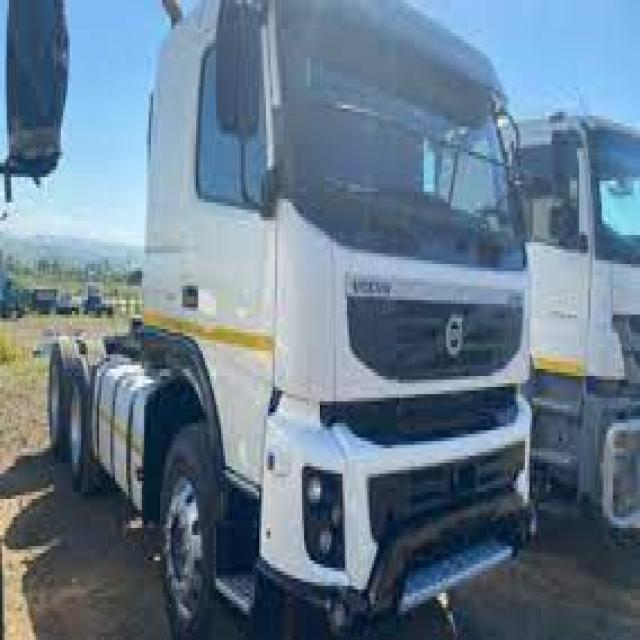Heavy Duty Truck: (47, 4, 541, 632)
